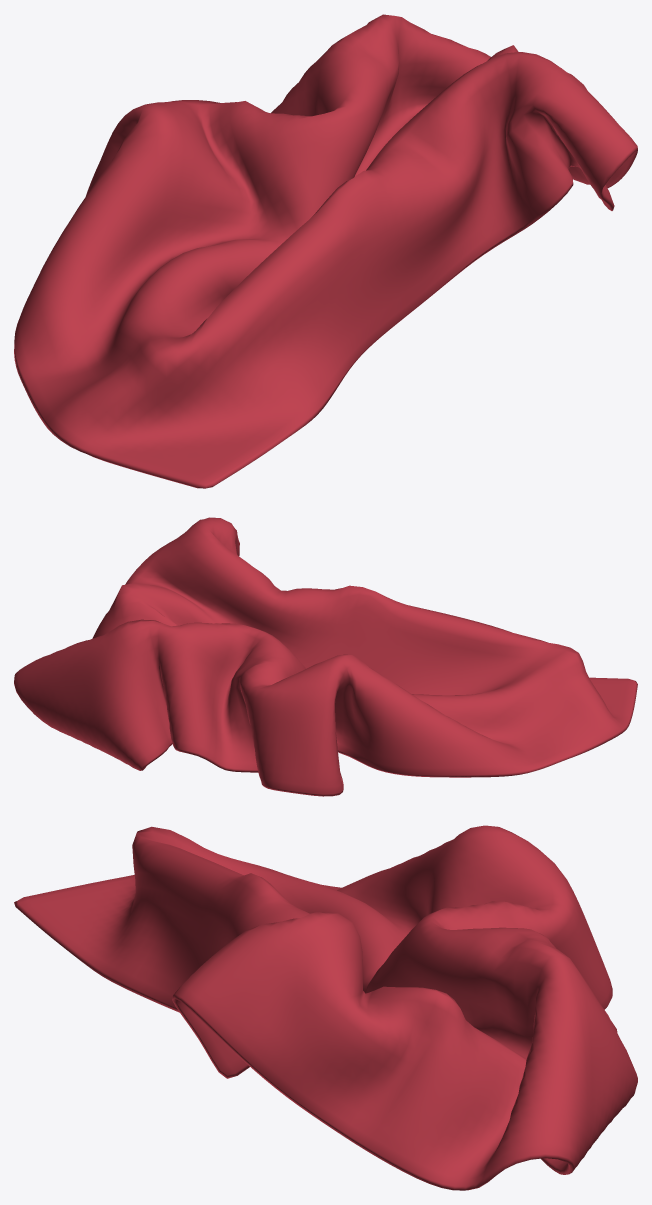
Rendered from HamHP.fbx.
3 views of the same model, one above another, from view 1: azimuth 30°, elevation 25°; view 2: azimuth 150°, elevation 25°; view 3: azimuth 270°, elevation 25° (orthographic). The views are drawn at different scales.
Visible parts, largest first — view 1: pPlane1; view 2: pPlane1; view 3: pPlane1.
Part boxes in pixels (x1,y1,x2,y2): pPlane1: [14, 14, 637, 488]; pPlane1: [14, 517, 637, 796]; pPlane1: [14, 825, 637, 1190].
Bounding box in the file's own units: 8.89 × 2.81 × 6.96.
